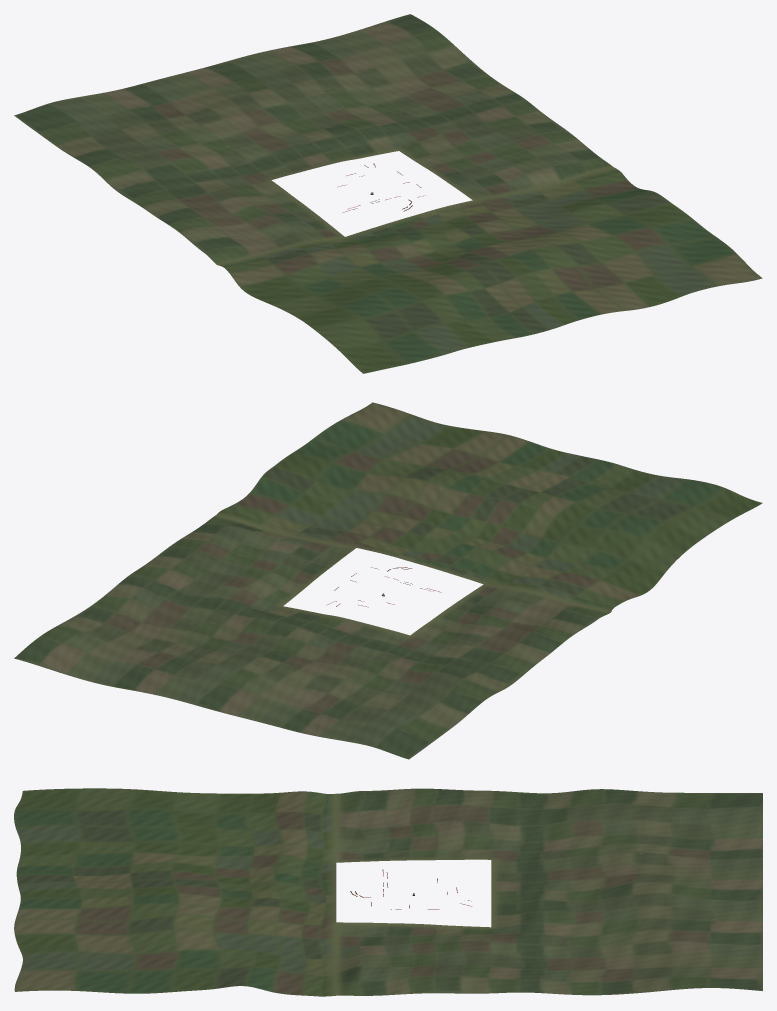
File: world.glb
3 renders of one model, top to bottom at view 1: azimuth 30°, elevation 25°; view 2: azimuth 150°, elevation 25°; view 3: azimuth 270°, elevation 25°, orthographic. The views are drawn at different scales.
Parts seen in each view (by area): view 1: SM_WestFieldRelief, SM_FullFieldReliefSouth, SM_FullFieldReliefNorth, SM_FullFieldReliefEast; view 2: SM_WestFieldRelief, SM_FullFieldReliefSouth, SM_FullFieldReliefNorth, SM_FullFieldReliefEast; view 3: SM_WestFieldRelief, SM_FullFieldReliefSouth, SM_FullFieldReliefNorth, SM_FullFieldReliefEast.
Boxes of the visible parts, <box> form: SM_WestFieldRelief: <box>217,167,762,373</box>; SM_FullFieldReliefSouth: <box>270,14,613,200</box>; SM_FullFieldReliefNorth: <box>14,84,344,264</box>; SM_FullFieldReliefEast: <box>142,50,398,180</box>; SM_WestFieldRelief: <box>216,402,762,612</box>; SM_FullFieldReliefSouth: <box>14,515,355,694</box>; SM_FullFieldReliefNorth: <box>282,584,610,759</box>; SM_FullFieldReliefEast: <box>154,606,409,727</box>; SM_WestFieldRelief: <box>14,788,336,996</box>; SM_FullFieldReliefSouth: <box>336,918,762,995</box>; SM_FullFieldReliefNorth: <box>336,788,762,862</box>; SM_FullFieldReliefEast: <box>491,853,762,927</box>.
Bounding box in the file's own units: 1892 × 68.97 × 2897.
41 materials, 40 textured.
